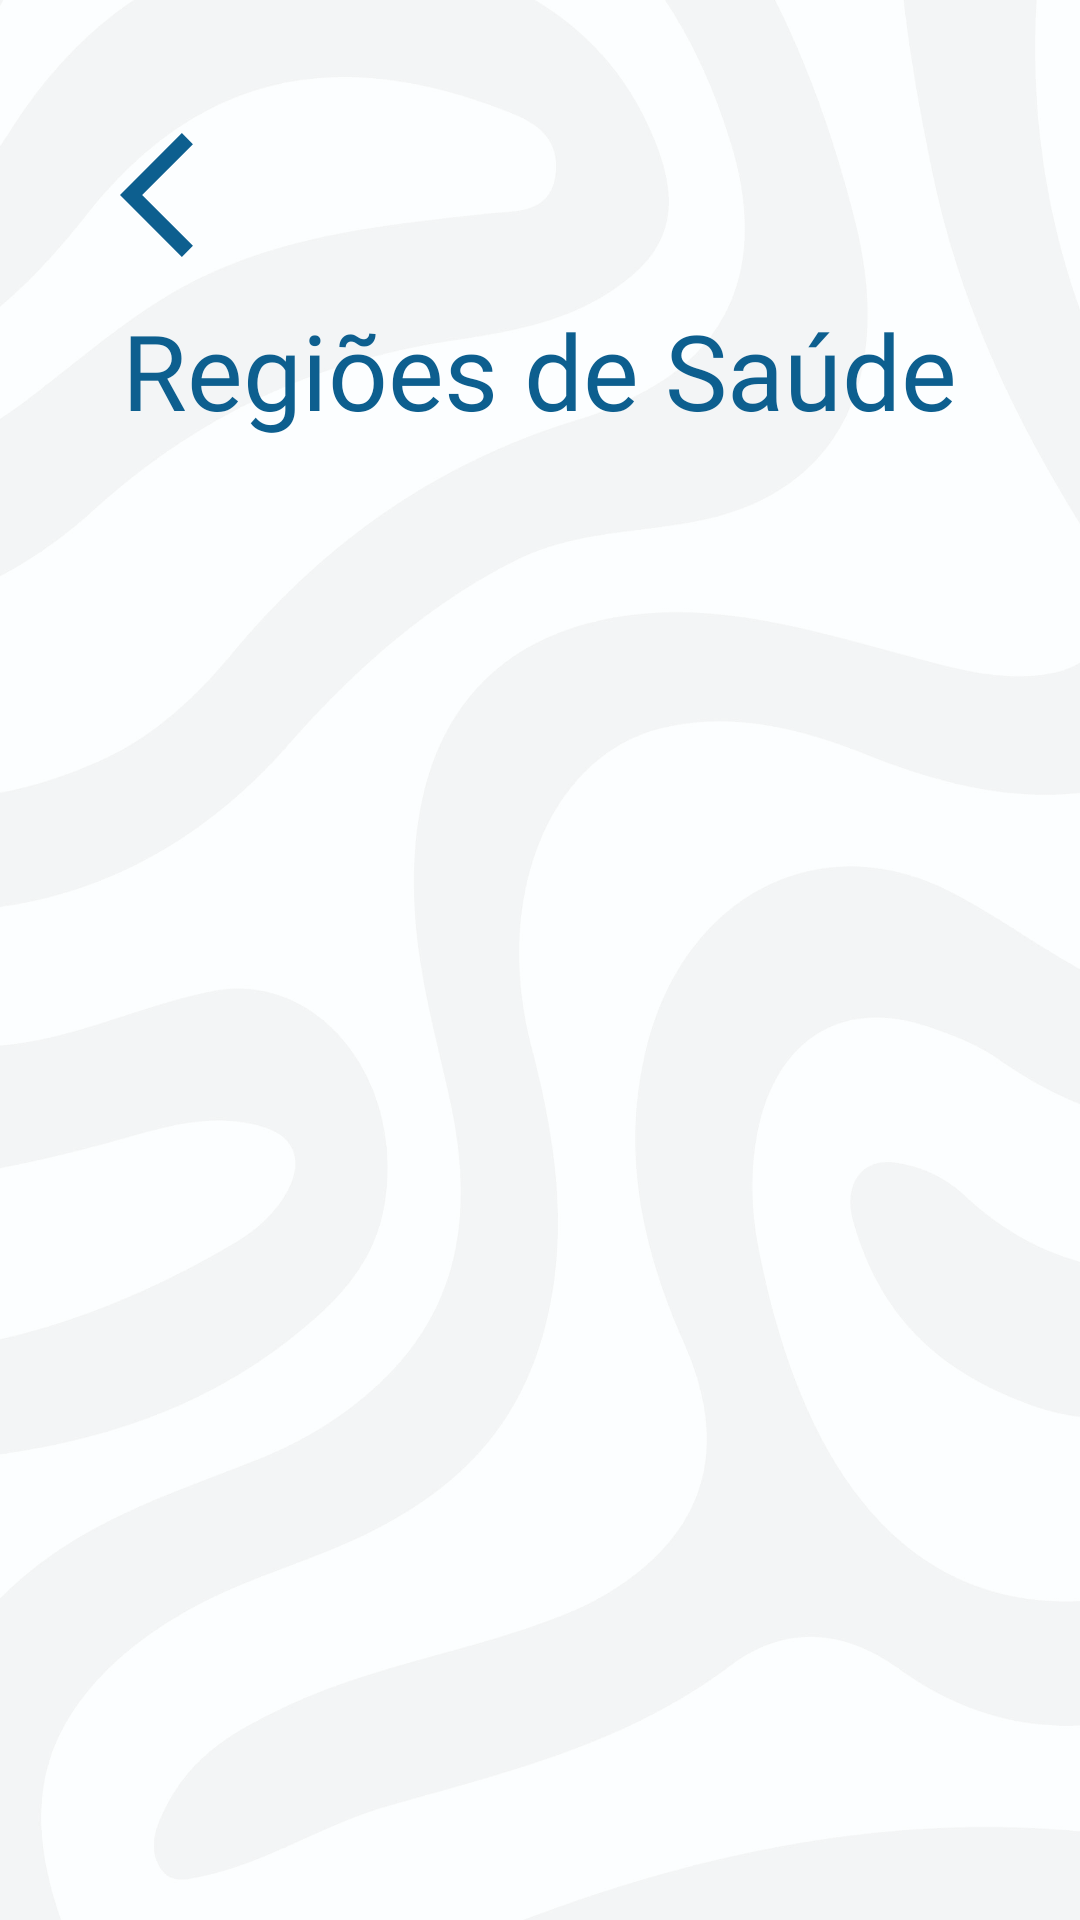

Icon click points for this 1080 x 1920 phone screenshot, format point (x, y):
voltar: point (156, 195)
